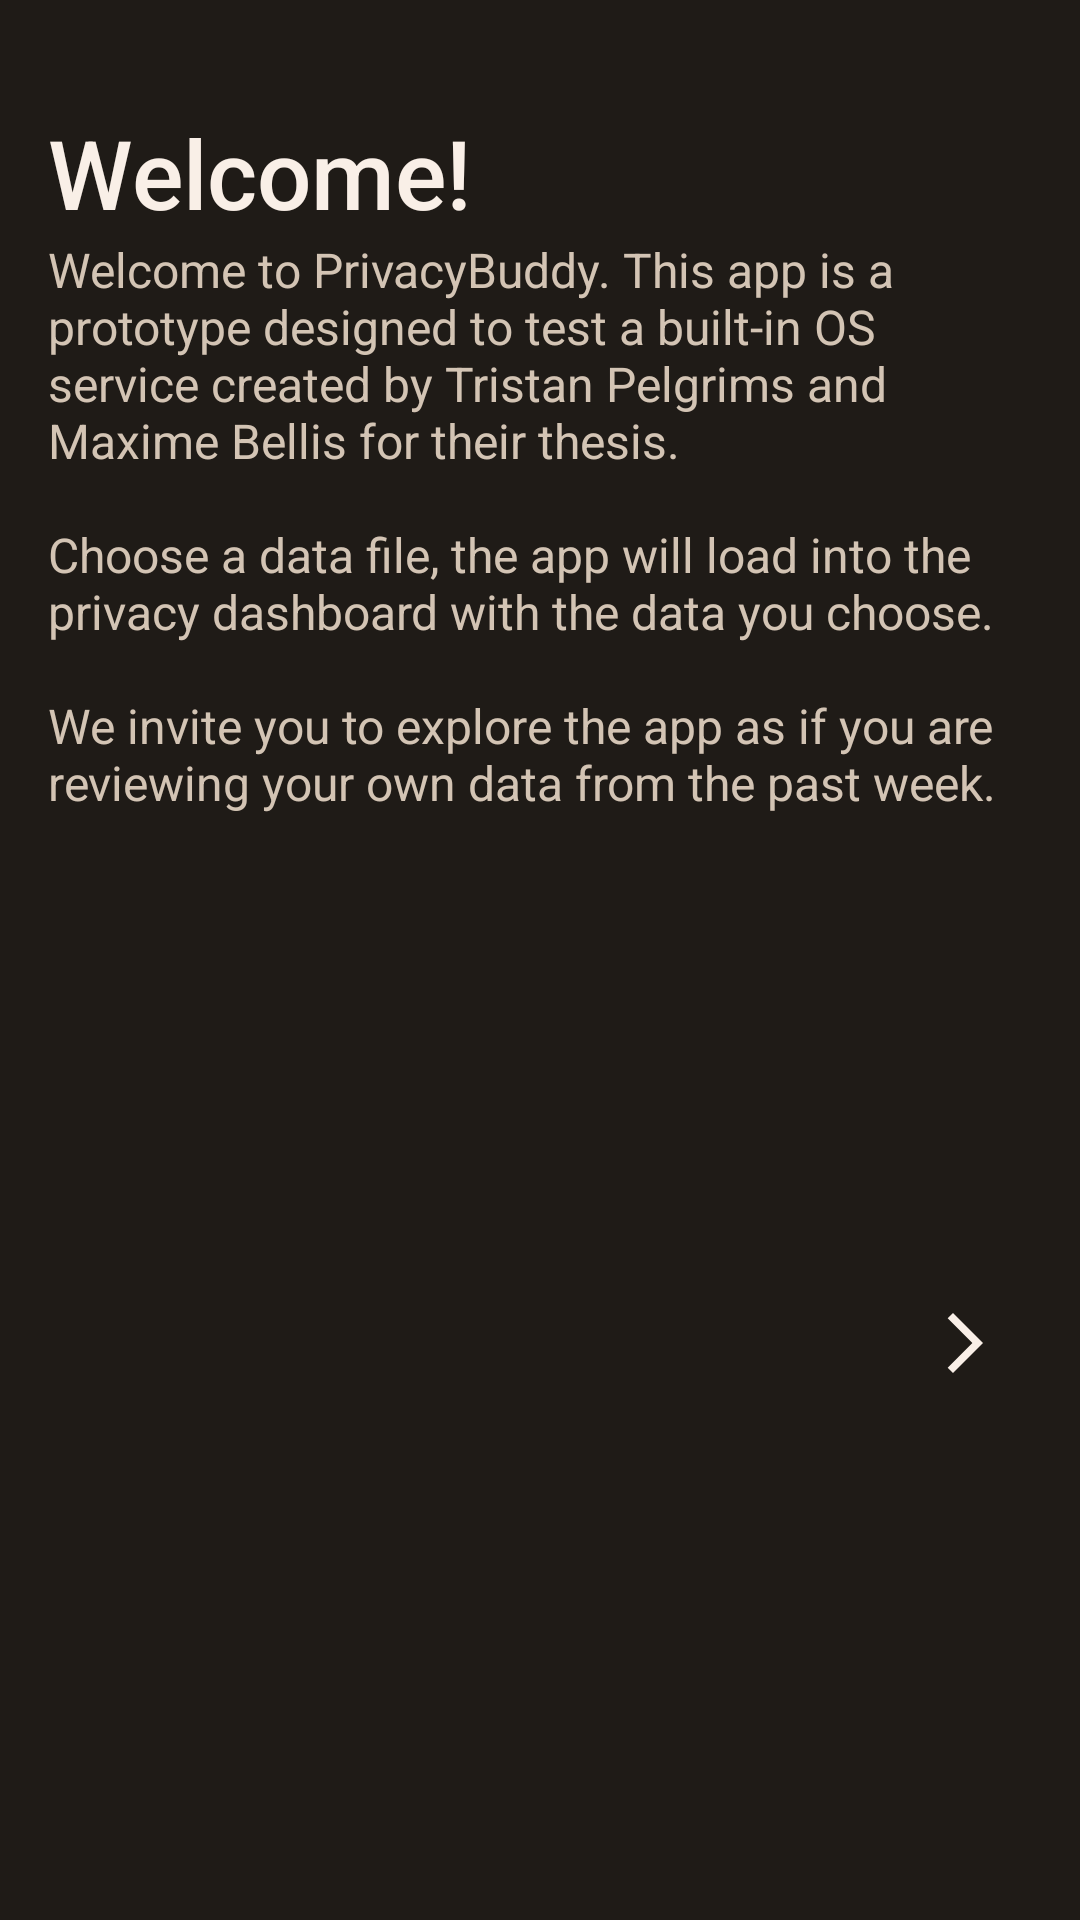

Icons on this 1080 x 1920 Android screen, each with the point to tap as (x=x, y=y):
chevron forward: (x=965, y=1343)
